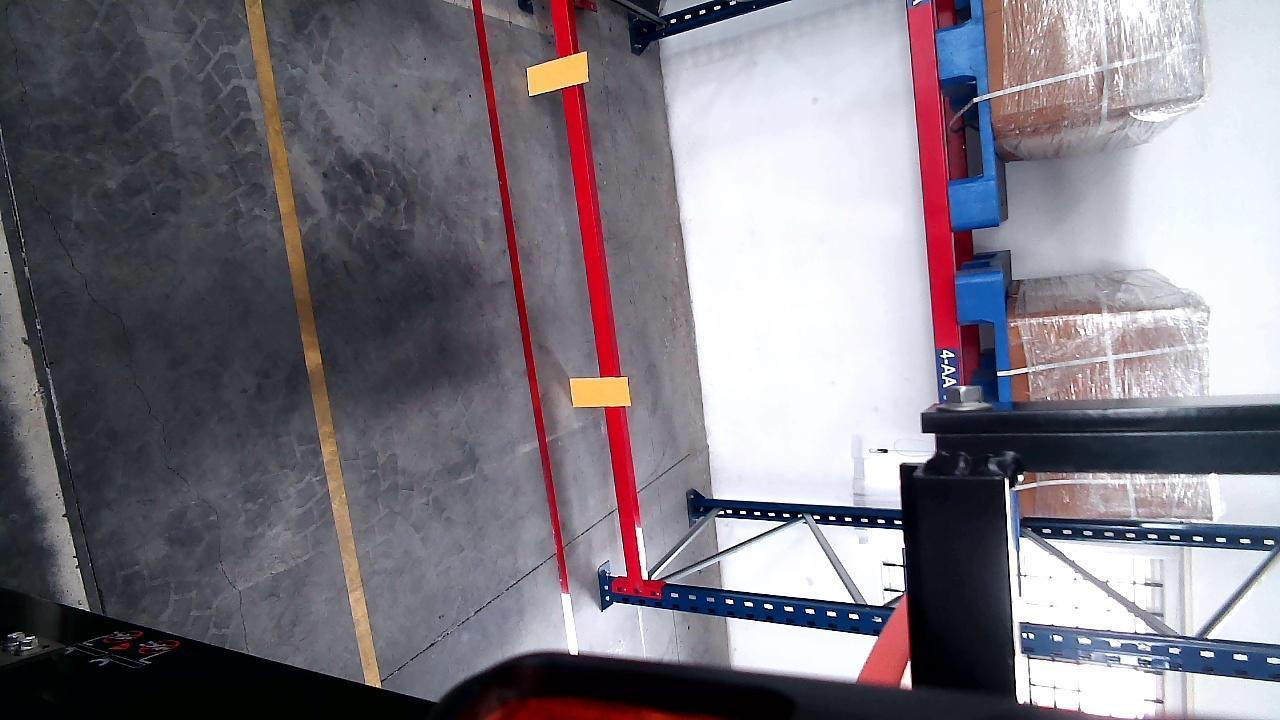h_rack: (1018, 631, 1280, 670)
orange_strip: (527, 50, 588, 96), (572, 376, 630, 406)
red_line: (473, 0, 575, 608)
small_pallet: (933, 0, 997, 209), (957, 271, 1009, 401)
